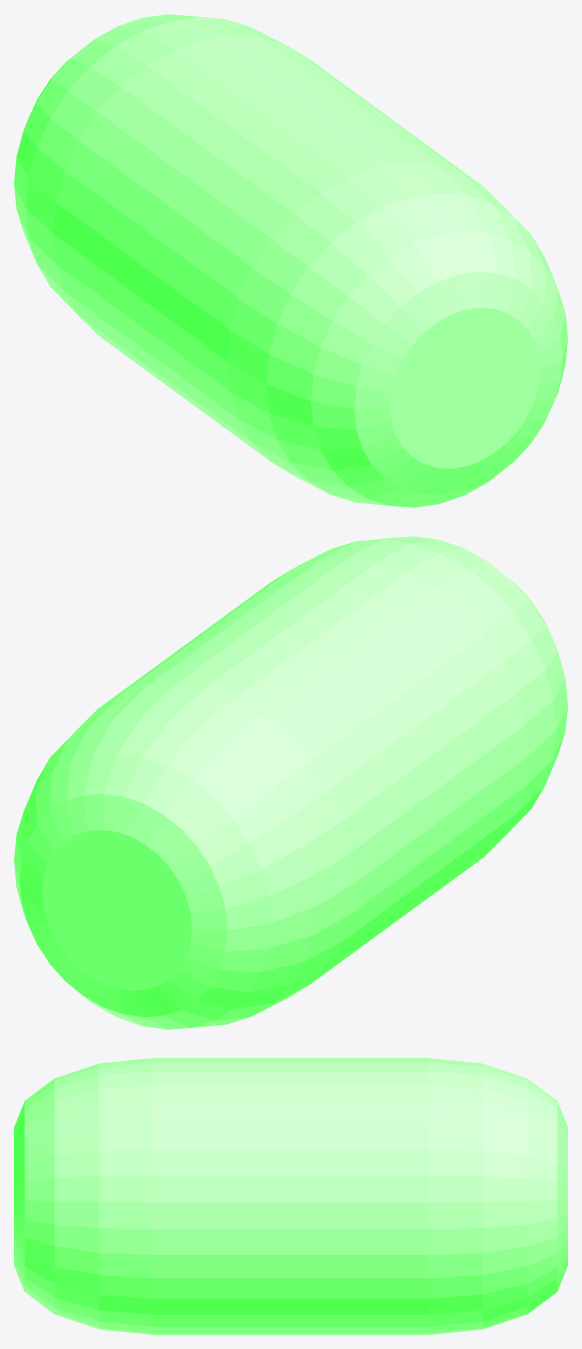
Rendered from laser_bullet.fbx.
3 views of the same model, one above another, from view 1: azimuth 30°, elevation 25°; view 2: azimuth 150°, elevation 25°; view 3: azimuth 270°, elevation 25° (orthographic). The views are drawn at different scales.
Parts seen in each view (by area): view 1: Cylinder; view 2: Cylinder; view 3: Cylinder.
Boxes of the visible parts, <box> form: Cylinder: <box>14,14,567,507</box>; Cylinder: <box>14,536,567,1029</box>; Cylinder: <box>14,1058,567,1334</box>.
Size of the model in its own units: 100 by 100 by 200.
